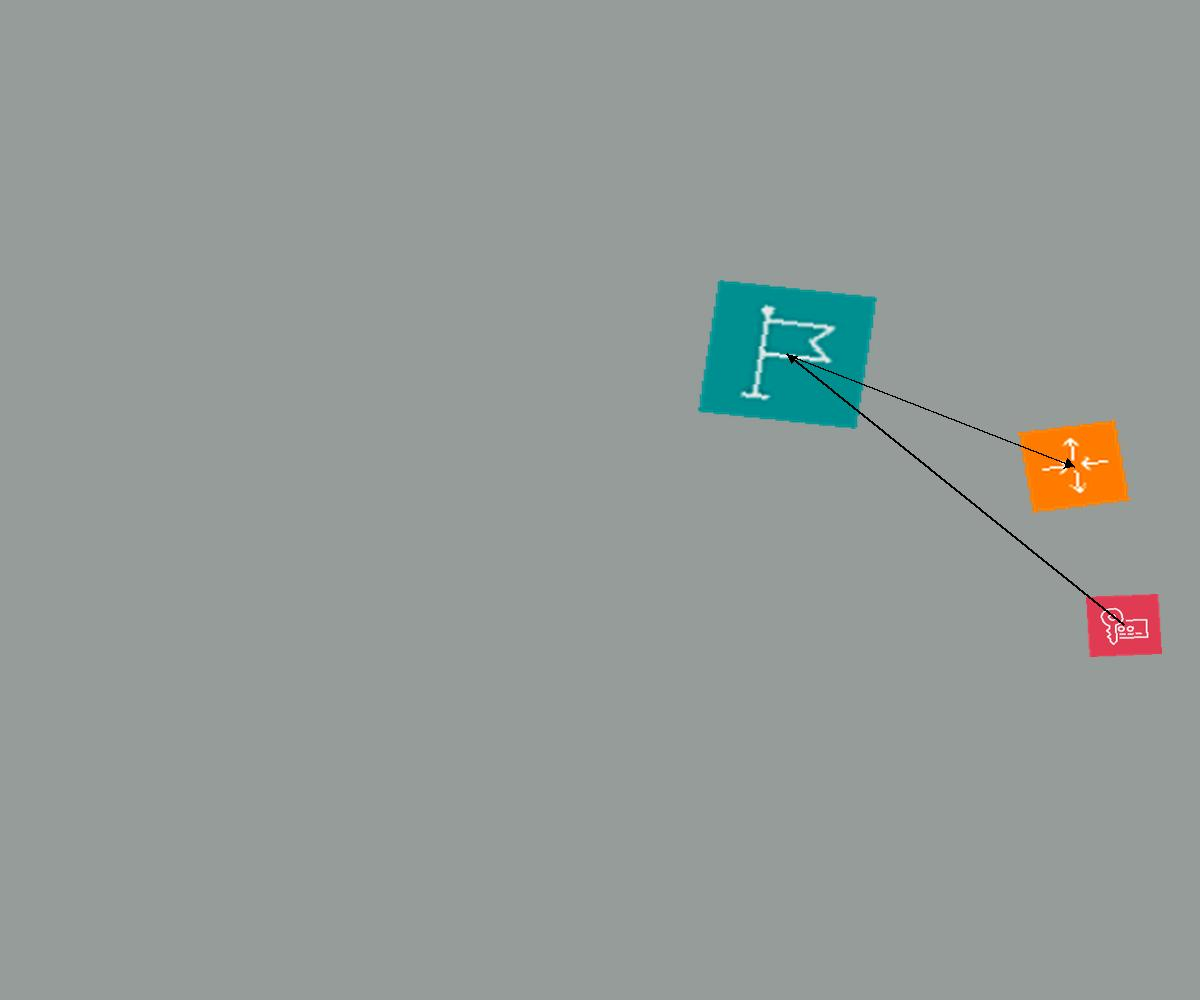AWS-Key-Management-Service: (1086, 594, 1162, 657)
AWS-Region: (698, 280, 877, 429)
AWS-Scaling-group: (1018, 420, 1130, 513)
